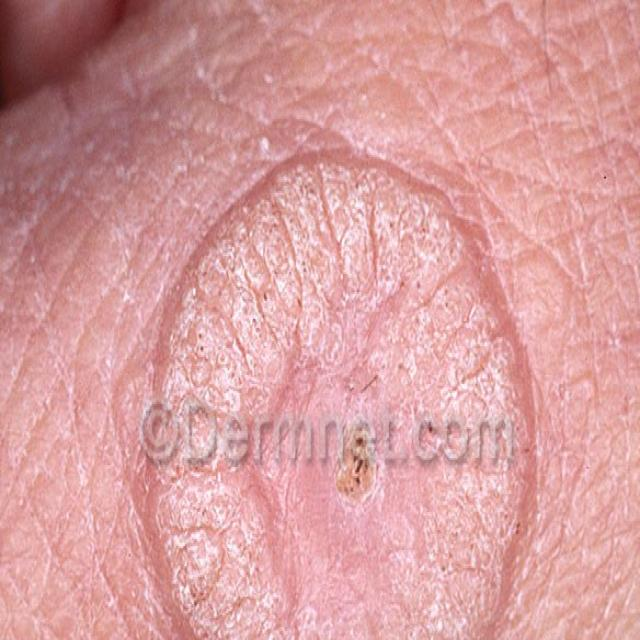Warts: (146, 148, 551, 640)
